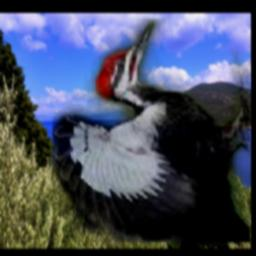Woodpecker: (54, 19, 251, 243)
